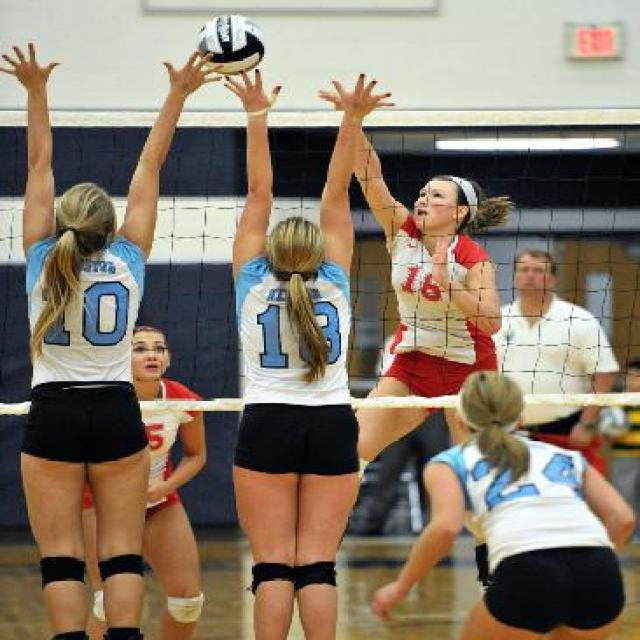volleyball: (198, 15, 266, 73)
